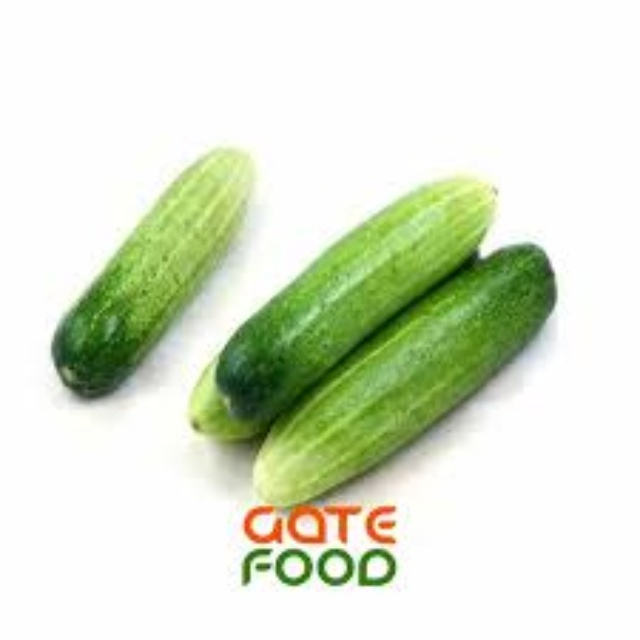dua_leo: (234, 241, 557, 524), (218, 176, 501, 419), (50, 139, 267, 401)
